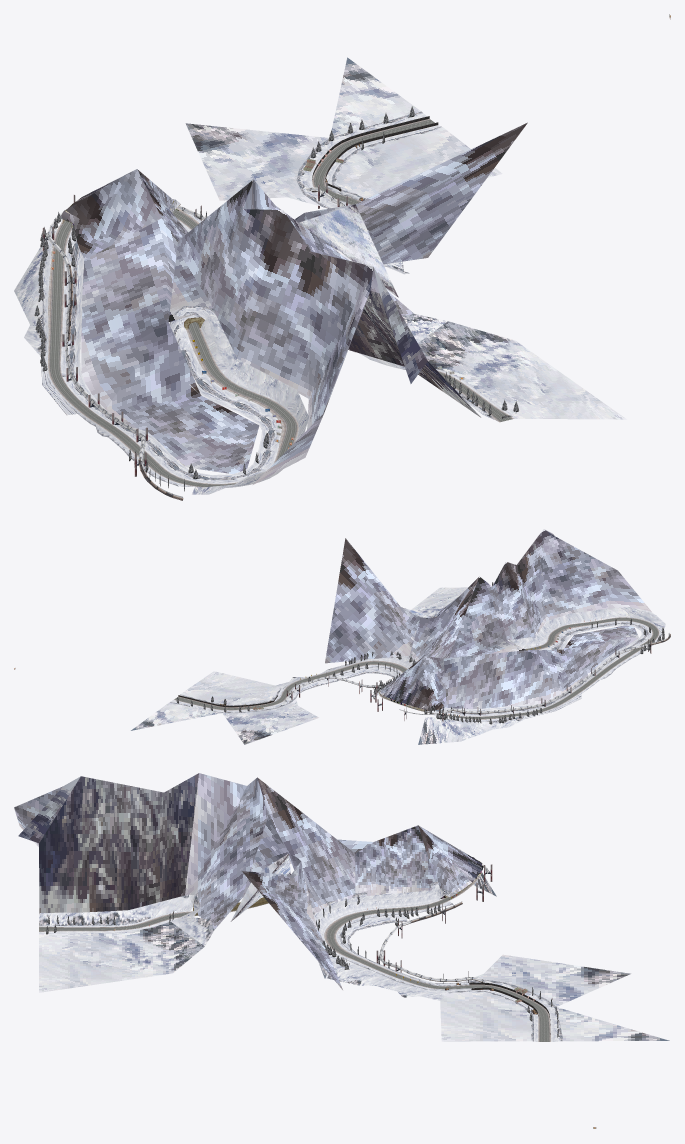
The model's file is stage-alas-env.glb.
3 renders of one model, top to bottom at view 1: azimuth 30°, elevation 25°; view 2: azimuth 150°, elevation 25°; view 3: azimuth 270°, elevation 25°, orthographic. The views are drawn at different scales.
Visible parts, largest first — view 1: env part 0 chunk -1,-2, env part 0 chunk -2,-2, env part 0 chunk 1,-5, env part 0 chunk -2,-3, env part 0 chunk 0,-1, env part 0 chunk 0,-3, env part 0 chunk -2,-4, env part 0 chunk -2,-1, env part 0 chunk -1,-1, env part 0 chunk -1,-4, env part 0 chunk 1,-6, env part 0 chunk -3,-1 (+7 smaller); view 2: env part 0 chunk -1,-2, env part 0 chunk 0,-3, env part 0 chunk -2,-3, env part 0 chunk 1,-5, env part 0 chunk -2,-4, env part 0 chunk -2,-2, env part 0 chunk -2,-1, env part 0 chunk -1,-4, env part 0 chunk -3,-1, env part 0 chunk 1,-6, env part 0 chunk 0,-4, env part 0 chunk 0,-1 (+6 smaller); view 3: env part 0 chunk -1,-1, env part 0 chunk -1,-2, env part 0 chunk -1,-4, env part 0 chunk 1,-5, env part 0 chunk 0,-1, env part 0 chunk 0,-3, env part 0 chunk 0,-4, env part 0 chunk 1,-6, env part 0 chunk -1,-3, env part 0 chunk 0,-5, env part 1 chunk -1,-4, env part 1 chunk 1,-5.
Part boxes in pixels (x1=…): env part 0 chunk -1,-2: x1=168, y1=179, x2=447, y2=484; env part 0 chunk -2,-2: x1=106, y1=306, x2=296, y2=466; env part 0 chunk 1,-5: x1=185, y1=123, x2=502, y2=208; env part 0 chunk -2,-3: x1=24, y1=218, x2=208, y2=408; env part 0 chunk 0,-1: x1=385, y1=321, x2=626, y2=421; env part 0 chunk 0,-3: x1=304, y1=122, x2=527, y2=274; env part 0 chunk -2,-4: x1=14, y1=218, x2=161, y2=367; env part 0 chunk -2,-1: x1=186, y1=390, x2=308, y2=477; env part 0 chunk -1,-1: x1=348, y1=267, x2=517, y2=422; env part 0 chunk -1,-4: x1=60, y1=169, x2=201, y2=240; env part 0 chunk 1,-6: x1=331, y1=57, x2=442, y2=137; env part 0 chunk -3,-1: x1=113, y1=432, x2=272, y2=494; env part 0 chunk -1,-2: x1=410, y1=529, x2=651, y2=661; env part 0 chunk 0,-3: x1=325, y1=538, x2=420, y2=676; env part 0 chunk -2,-3: x1=444, y1=649, x2=560, y2=726; env part 0 chunk 1,-5: x1=181, y1=671, x2=318, y2=744; env part 0 chunk -2,-4: x1=418, y1=659, x2=535, y2=744; env part 0 chunk -2,-2: x1=508, y1=621, x2=638, y2=693; env part 0 chunk -2,-1: x1=547, y1=607, x2=638, y2=649; env part 0 chunk -1,-4: x1=376, y1=656, x2=443, y2=709; env part 0 chunk -3,-1: x1=604, y1=607, x2=665, y2=665; env part 0 chunk 1,-6: x1=131, y1=694, x2=221, y2=730; env part 0 chunk 0,-4: x1=288, y1=658, x2=369, y2=695; env part 0 chunk 0,-1: x1=411, y1=587, x2=467, y2=615; env part 0 chunk -1,-1: x1=18, y1=773, x2=198, y2=933; env part 0 chunk -1,-2: x1=14, y1=773, x2=355, y2=946; env part 0 chunk -1,-4: x1=329, y1=825, x2=482, y2=938; env part 0 chunk 1,-5: x1=411, y1=954, x2=630, y2=1041; env part 0 chunk 0,-1: x1=39, y1=910, x2=204, y2=992; env part 0 chunk 0,-3: x1=242, y1=861, x2=368, y2=989; env part 0 chunk 0,-4: x1=327, y1=951, x2=469, y2=997; env part 0 chunk 1,-6: x1=531, y1=1007, x2=669, y2=1041; env part 0 chunk -1,-3: x1=231, y1=854, x2=373, y2=929; env part 0 chunk 0,-5: x1=432, y1=955, x2=534, y2=1005; env part 1 chunk -1,-4: x1=357, y1=895, x2=462, y2=938; env part 1 chunk 1,-5: x1=471, y1=983, x2=558, y2=1027.
Bounding box in the file's own units: 2121 × 459 × 1884.
19 materials, 19 textured.
